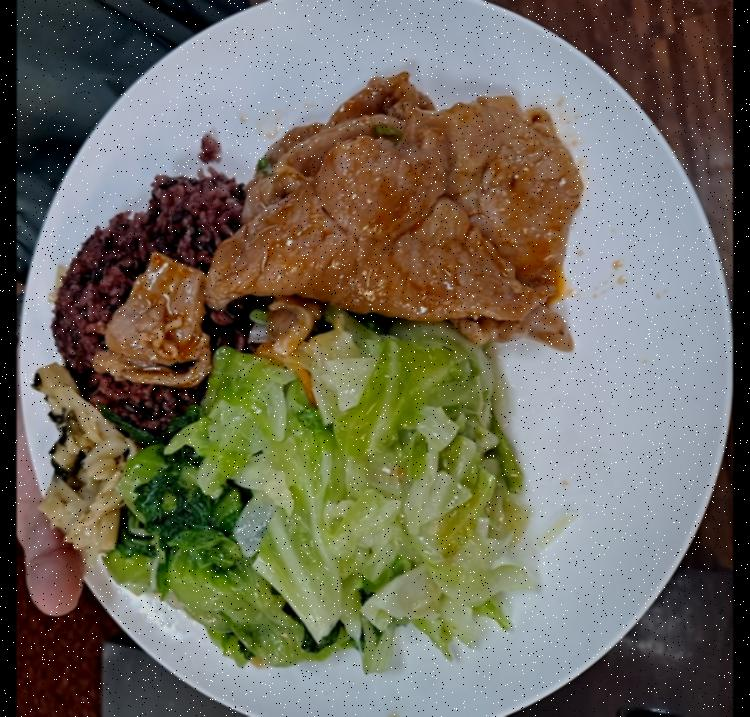plate: (18, 0, 733, 717)
purple rice: (50, 174, 251, 427)
side dish: (184, 324, 524, 648), (104, 431, 334, 664), (26, 362, 132, 554)
thai pork: (97, 82, 578, 387)
